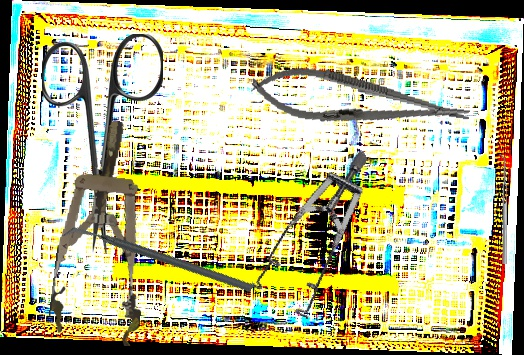Chopper: (61, 166, 256, 355)
Iris Scissors: (42, 34, 163, 254)
Needle Holder: (248, 59, 473, 143)
Spatula Surgical: (498, 154, 507, 264)
Speculum: (221, 149, 420, 335), (46, 115, 164, 348)
